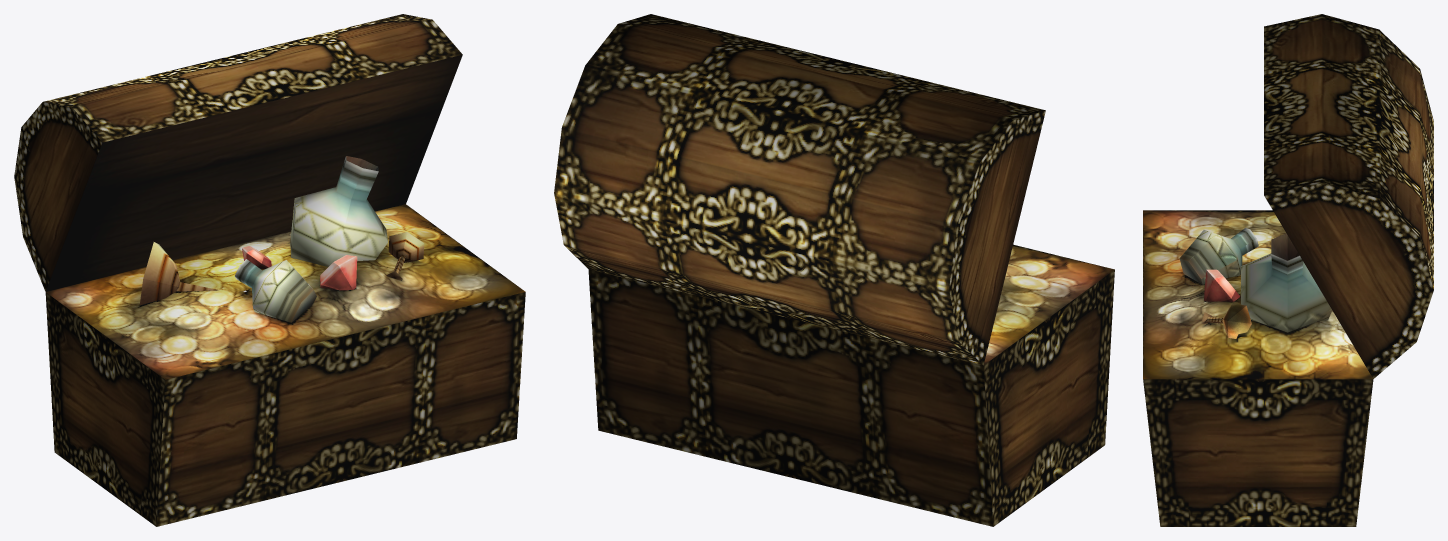
Rendered from MedievalChest_04_open.fbx.
The picture shows the model from 3 angles, left to right: view 1: azimuth 30°, elevation 25°; view 2: azimuth 150°, elevation 25°; view 3: azimuth 270°, elevation 25°; orthographic projection. The views are drawn at different scales.
Visible parts, largest first — view 1: Medieval_chest_04_open, Truesure; view 2: Medieval_chest_04_open, Truesure; view 3: Medieval_chest_04_open, Truesure.
Part boxes in pixels (<box>): Medieval_chest_04_open: <box>14,14,525,526</box>; Truesure: <box>46,156,525,379</box>; Medieval_chest_04_open: <box>554,14,1114,526</box>; Truesure: <box>984,246,1114,364</box>; Medieval_chest_04_open: <box>1143,14,1433,526</box>; Truesure: <box>1143,210,1372,379</box>.
Size of the model in its own units: 29.04 by 27.55 by 21.11.
